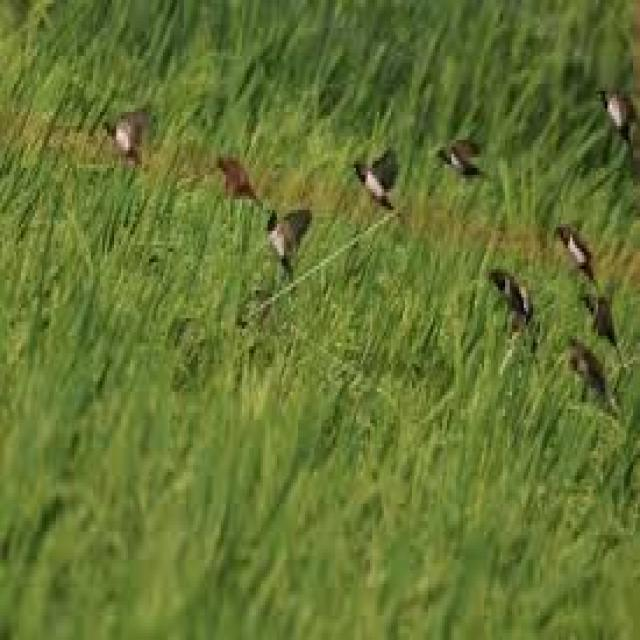bird: (99, 102, 154, 178), (263, 206, 312, 285), (347, 146, 402, 216), (488, 264, 537, 331), (432, 135, 490, 185), (215, 157, 259, 206)
